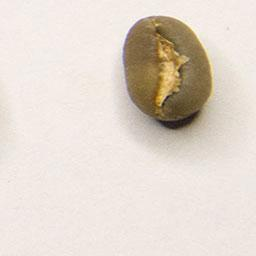peaberry: (118, 12, 217, 127)
